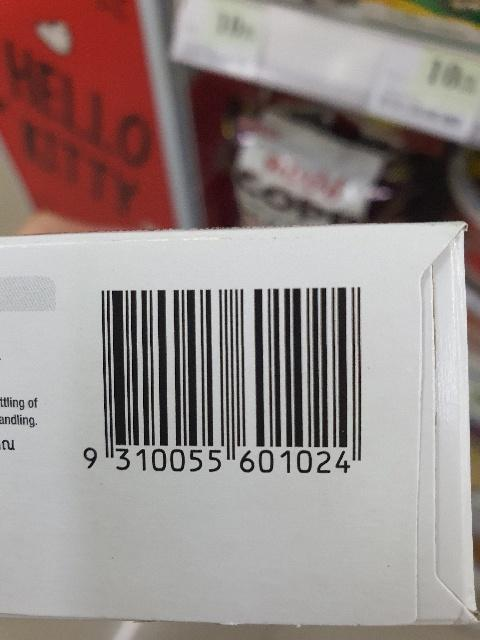Barcode: (73, 280, 371, 485)
